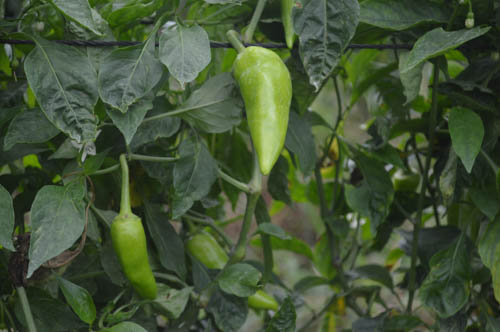ChiliPepper: (237, 47, 292, 179), (187, 233, 281, 308), (112, 220, 160, 299)
